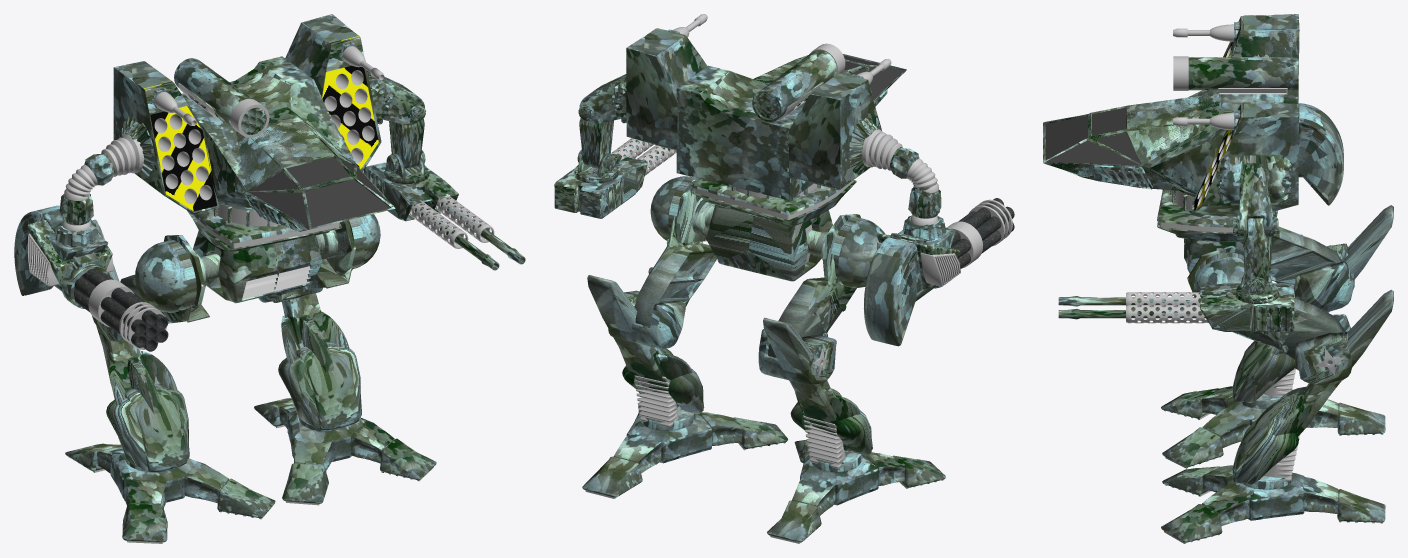
Rendered from robot_break.fbx.
3 renders of one model, left to right at view 1: azimuth 30°, elevation 25°; view 2: azimuth 150°, elevation 25°; view 3: azimuth 270°, elevation 25°, orthographic. The views are drawn at different scales.
Visible parts, largest first — view 1: polySurface39, polySurface93, polySurface89, polySurface194, polySurface111, polySurface125, polySurface167, polySurface79, Torso Upper Part, polySurface75, AC Cylinder, polySurface105 (+53 smaller); view 2: polySurface89, polySurface39, polySurface93, polySurface194, polySurface43, polySurface113, Torso Upper Part, polySurface158, polySurface121, AC Cylinder, polySurface111, polySurface152 (+40 smaller); view 3: polySurface93, AC Cylinder, polySurface43, polySurface78, polySurface99, polySurface39, polySurface79, polySurface152, polySurface128, polySurface159, polySurface90, polySurface121 (+45 smaller).
Boxes of the visible parts, left/top/right/bottom form: polySurface39: left=113, top=61, right=219, bottom=214; polySurface93: left=285, top=14, right=381, bottom=171; polySurface89: left=181, top=56, right=393, bottom=210; polySurface194: left=193, top=230, right=322, bottom=303; polySurface111: left=135, top=240, right=196, bottom=312; polySurface125: left=296, top=342, right=359, bottom=430; polySurface167: left=124, top=384, right=187, bottom=472; polySurface79: left=251, top=107, right=355, bottom=189; Torso Upper Part: left=187, top=205, right=342, bottom=252; polySurface75: left=305, top=179, right=390, bottom=227; AC Cylinder: left=174, top=58, right=266, bottom=134; polySurface105: left=409, top=196, right=494, bottom=248; polySurface89: left=676, top=54, right=902, bottom=200; polySurface39: left=789, top=72, right=882, bottom=190; polySurface93: left=626, top=28, right=706, bottom=150; polySurface194: left=706, top=204, right=832, bottom=281; polySurface43: left=863, top=237, right=916, bottom=346; polySurface113: left=634, top=214, right=716, bottom=326; Torso Upper Part: left=692, top=178, right=856, bottom=226; polySurface158: left=763, top=317, right=851, bottom=451; polySurface121: left=587, top=275, right=678, bottom=407; AC Cylinder: left=752, top=50, right=836, bottom=122; polySurface111: left=830, top=216, right=884, bottom=287; polySurface152: left=768, top=253, right=856, bottom=357; polySurface93: left=1192, top=103, right=1299, bottom=216; AC Cylinder: left=1188, top=57, right=1298, bottom=90; polySurface43: left=1298, top=103, right=1343, bottom=205; polySurface78: left=1043, top=124, right=1209, bottom=190; polySurface99: left=1200, top=296, right=1294, bottom=331; polySurface39: left=1223, top=14, right=1299, bottom=103; polySurface79: left=1091, top=93, right=1219, bottom=138; polySurface152: left=1269, top=226, right=1342, bottom=293; polySurface128: left=1294, top=314, right=1351, bottom=385; polySurface159: left=1294, top=243, right=1354, bottom=312; polySurface90: left=1217, top=154, right=1291, bottom=203; polySurface121: left=1295, top=289, right=1393, bottom=436.
Bounding box in the file's own units: 718 × 741 × 578.
